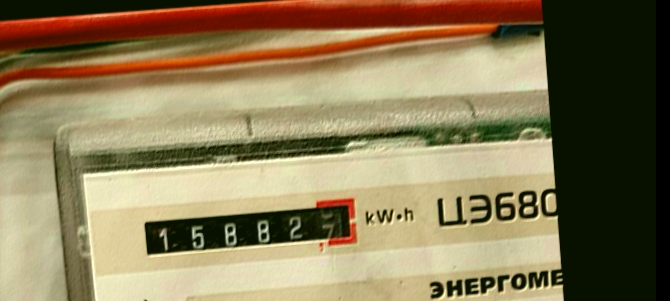1: (156, 224, 172, 253)
2: (287, 213, 305, 243)
5: (188, 223, 208, 251)
7: (319, 221, 337, 239)
8: (221, 220, 239, 249), (255, 217, 272, 246)
screen: (130, 190, 369, 269)
